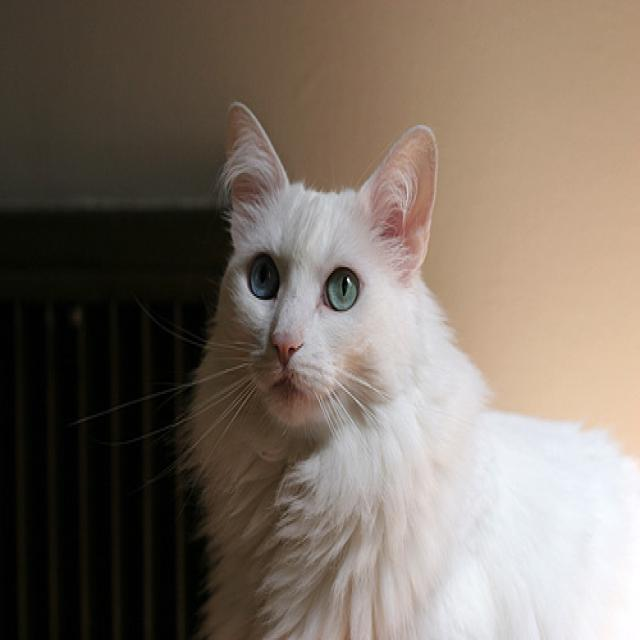cat: (69, 99, 640, 639)
